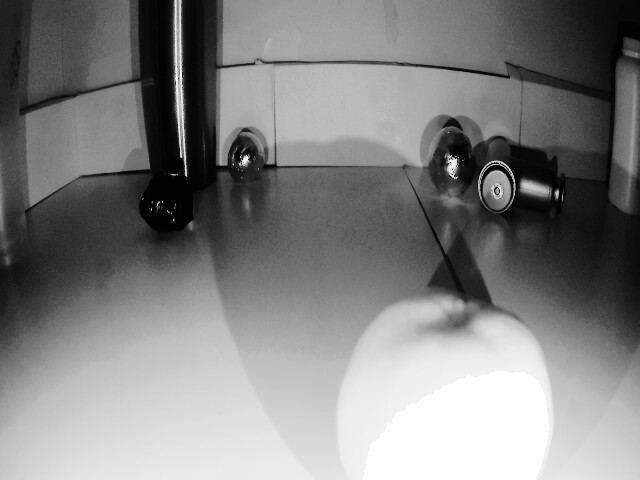black: (431, 123, 473, 197), (223, 127, 272, 181)
silver: (141, 171, 198, 235)
